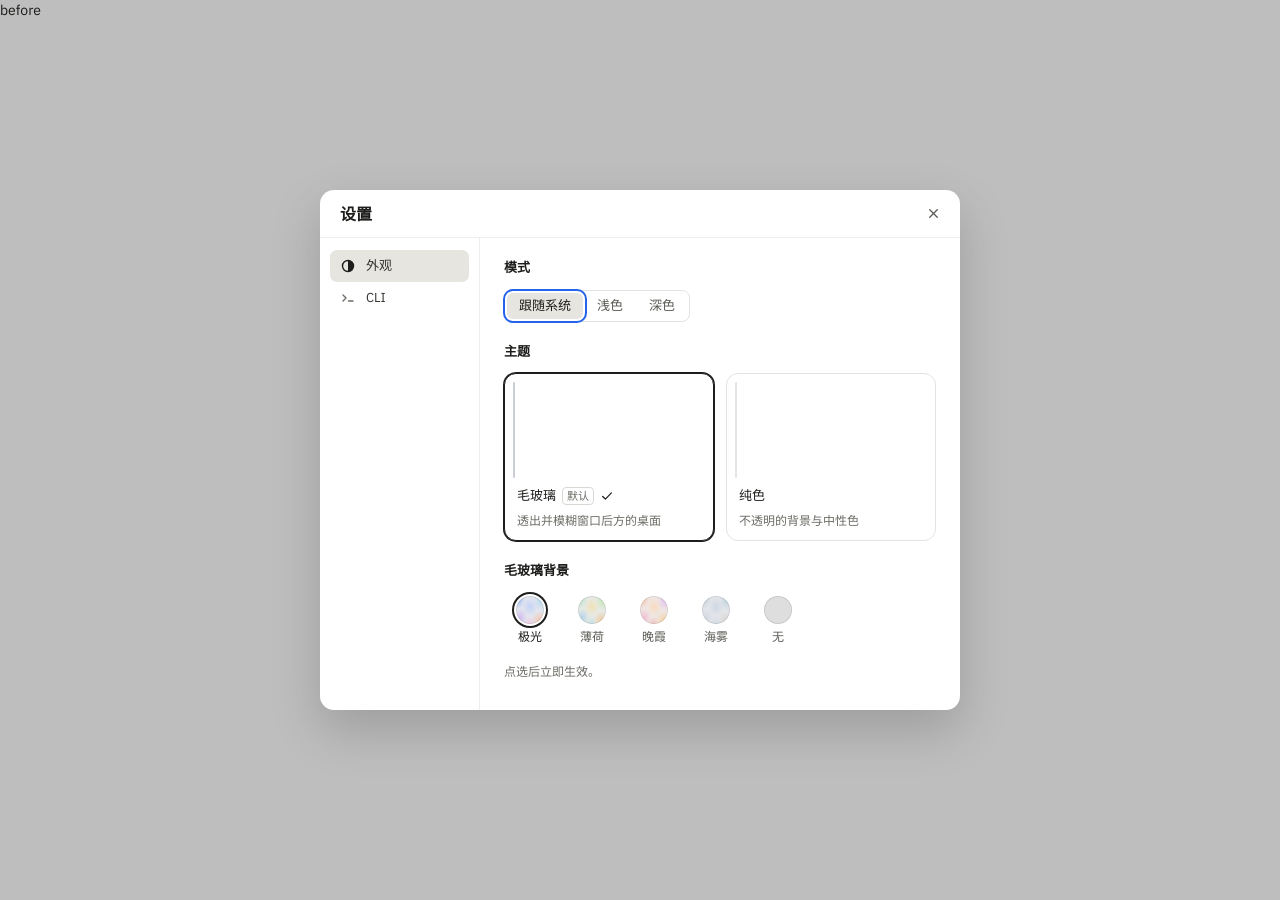
it: settings · FR-SET-001 / FR-SET-002 · AC-08 › reports a rejected CLI setting without changing the default or claiming success
Step 1. Click the button "CLI" → (400, 298), box [330,282,469,314]
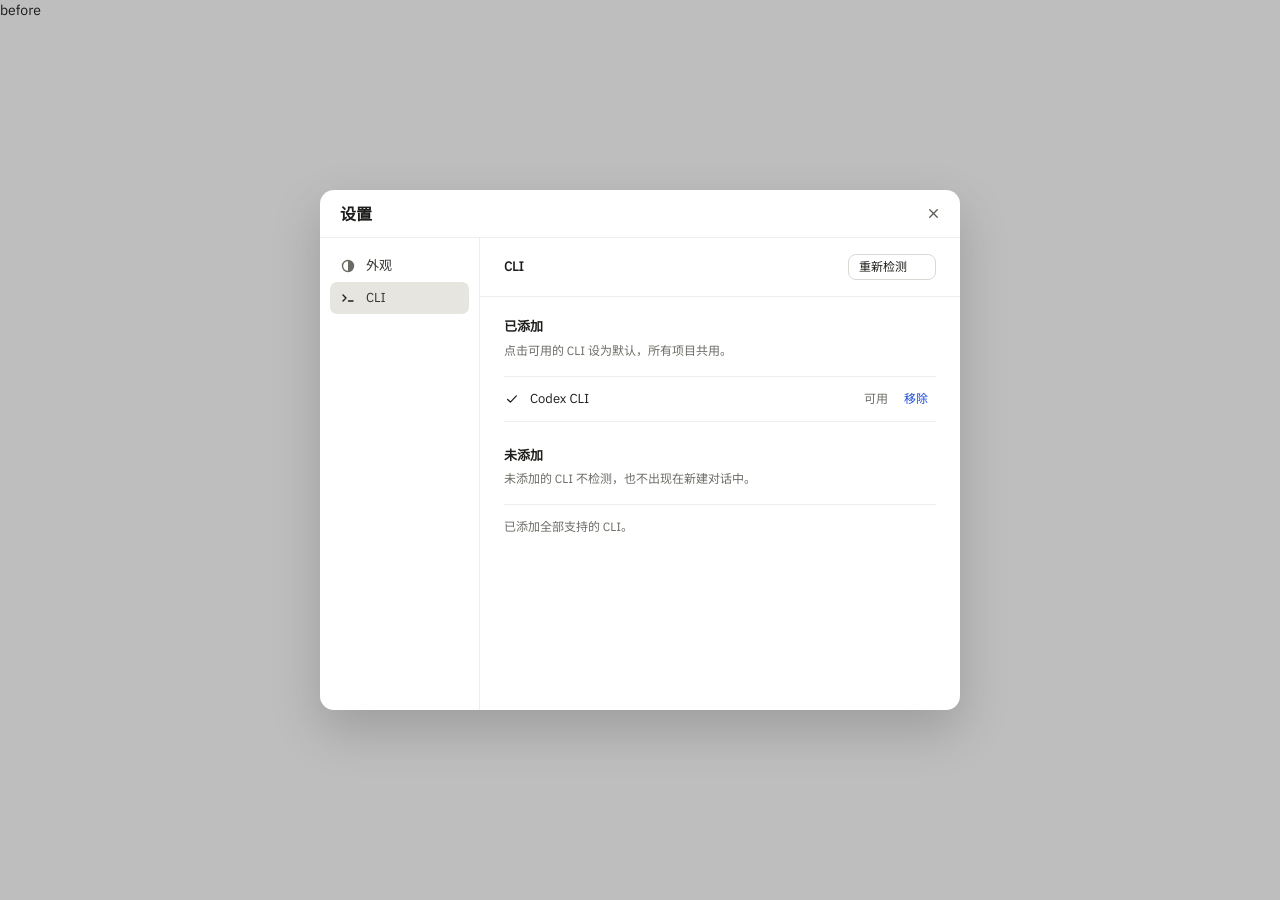
Now the radio button labelled "Codex CLI" is enabled
Step 2. Click the radio button labelled "Codex CLI" → (560, 398), box [504,379,856,419]
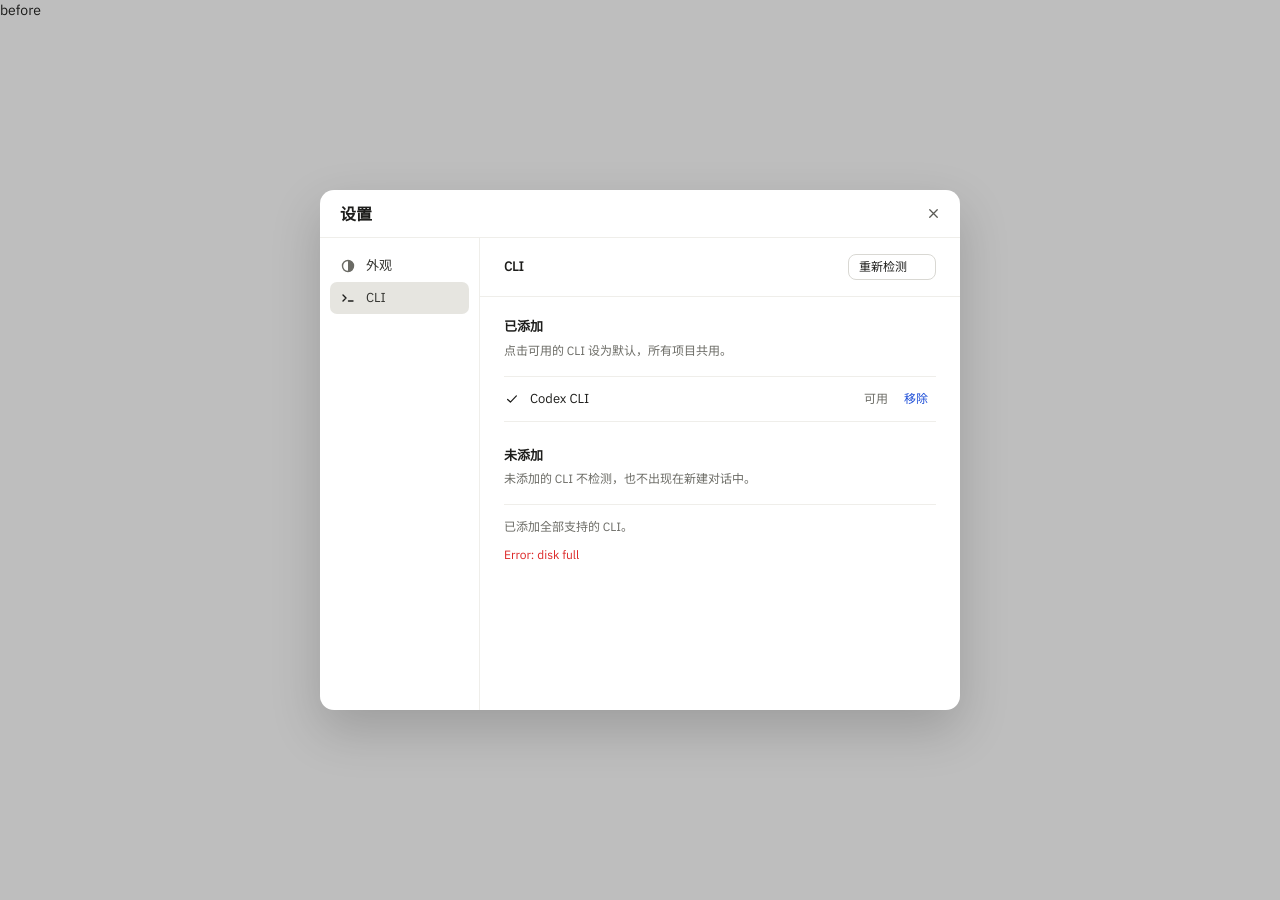
Now the message shows "disk full", box [504,547,579,562]
